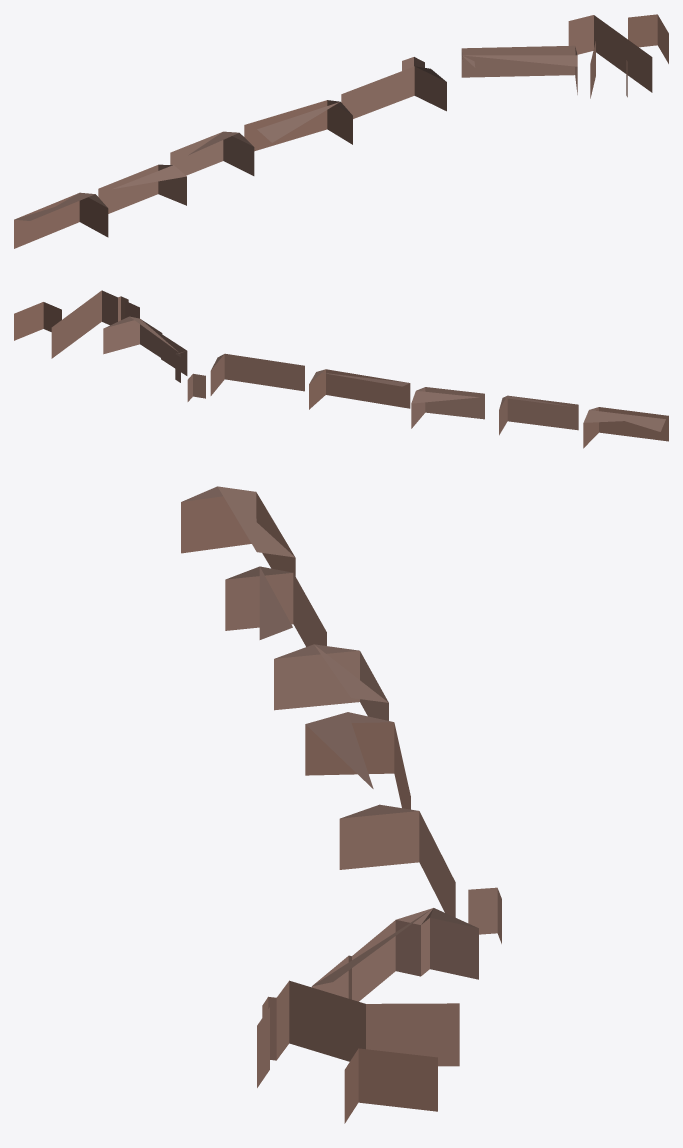
File: c_1642_17837_buildings_residential.glb
3 renders of one model, top to bottom at view 1: azimuth 30°, elevation 25°; view 2: azimuth 150°, elevation 25°; view 3: azimuth 270°, elevation 25°, orthographic. The views are drawn at different scales.
Visible parts, largest first — view 1: geometry_0; view 2: geometry_0; view 3: geometry_0.
Boxes of the visible parts, x1,y1,x2,y2 form: geometry_0: (14,14,668,248); geometry_0: (14,290,668,448); geometry_0: (181,486,501,1123).
Bounding box in the file's own units: 222 × 11.08 × 50.92.
